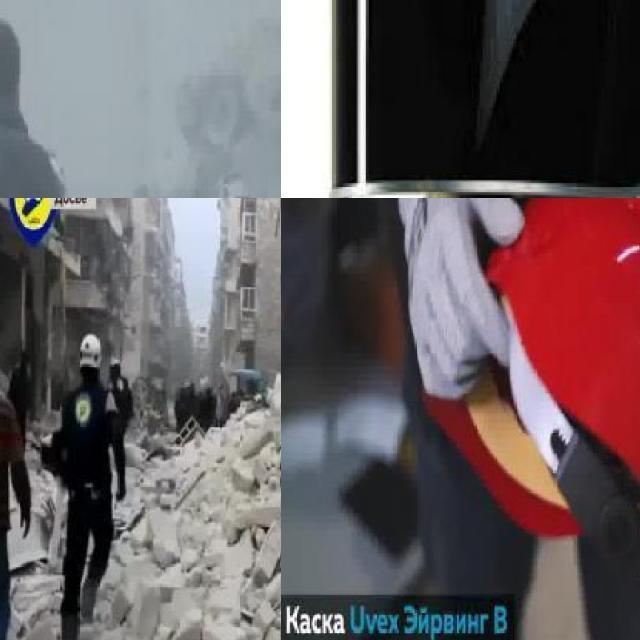apron: (397, 198, 526, 410)
